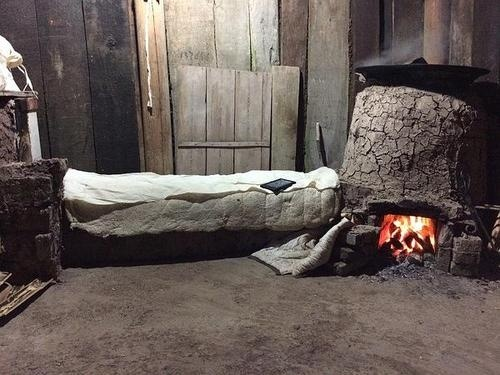fire: (380, 211, 438, 253)
